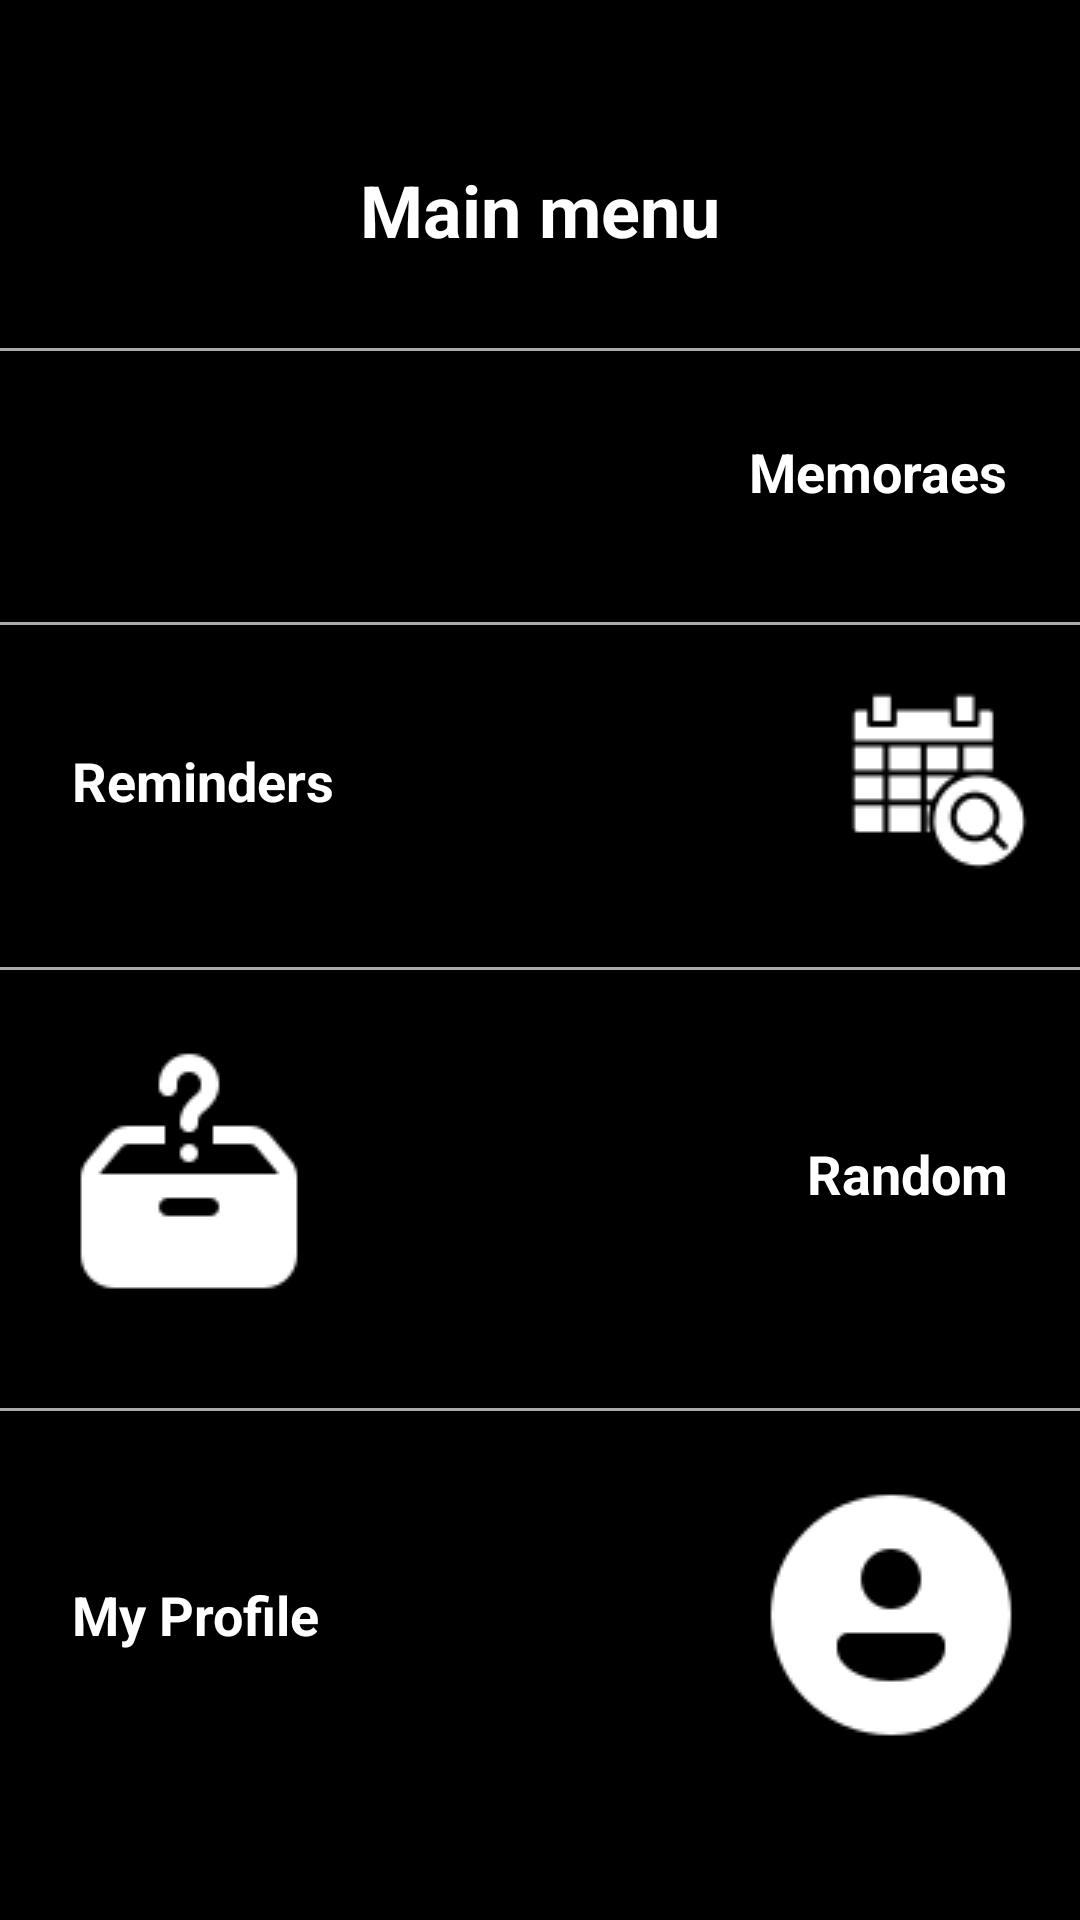

Point at icon controls on the screen. Image size 1080w x 1920h, points as point (x, y).
calendario: point (939, 781)
usuario masculino en rculo: point (891, 1615)
